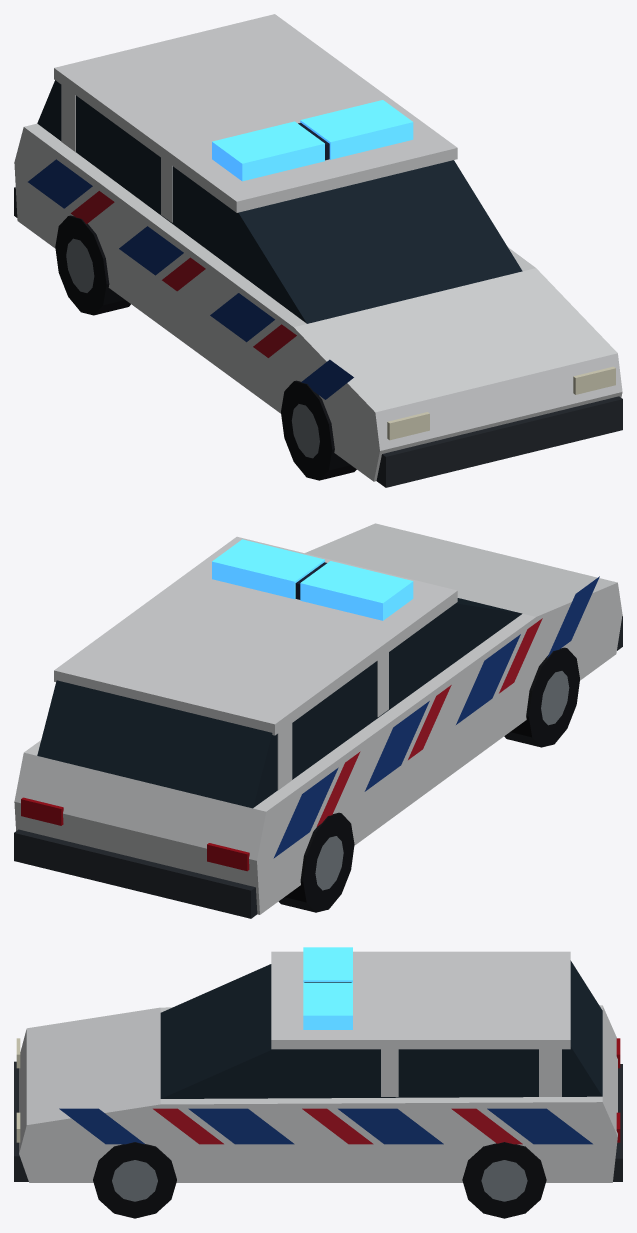
The model's file is police.glb.
3 renders of one model, top to bottom at view 1: azimuth 30°, elevation 25°; view 2: azimuth 150°, elevation 25°; view 3: azimuth 270°, elevation 25°, orthographic. The views are drawn at different scales.
Parts seen in each view (by area): view 1: police, lightRight, lightLeft; view 2: police, lightRight, lightLeft; view 3: police, lightLeft, lightRight.
Boxes of the visible parts, x1,y1,x2,y2 form: police: [14, 14, 622, 487]; lightRight: [212, 121, 324, 181]; lightLeft: [300, 100, 413, 159]; police: [14, 523, 622, 918]; lightRight: [300, 561, 413, 620]; lightLeft: [212, 539, 324, 599]; police: [14, 951, 622, 1218]; lightLeft: [303, 982, 352, 1029]; lightRight: [303, 947, 352, 982].
Size of the model in its own units: 1.85 by 1.62 by 4.78.
